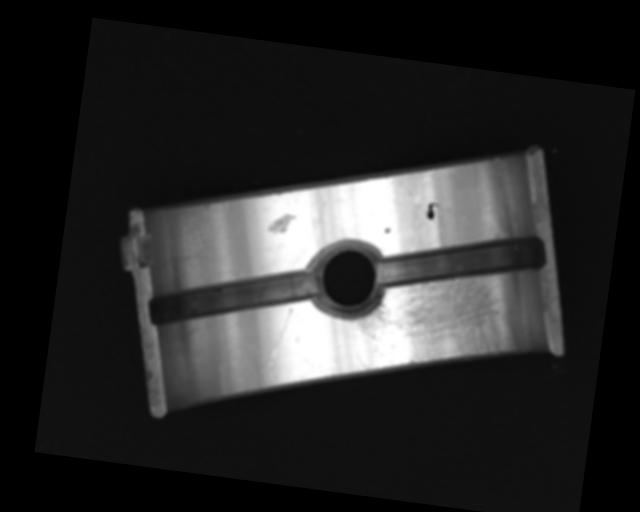blot: (424, 201, 441, 221)
bruise: (266, 211, 296, 238), (384, 226, 391, 233)
gap: (149, 249, 319, 344), (374, 216, 548, 304)
hole: (303, 235, 390, 321)
nick: (269, 305, 292, 367)
scratch: (350, 250, 528, 390)
